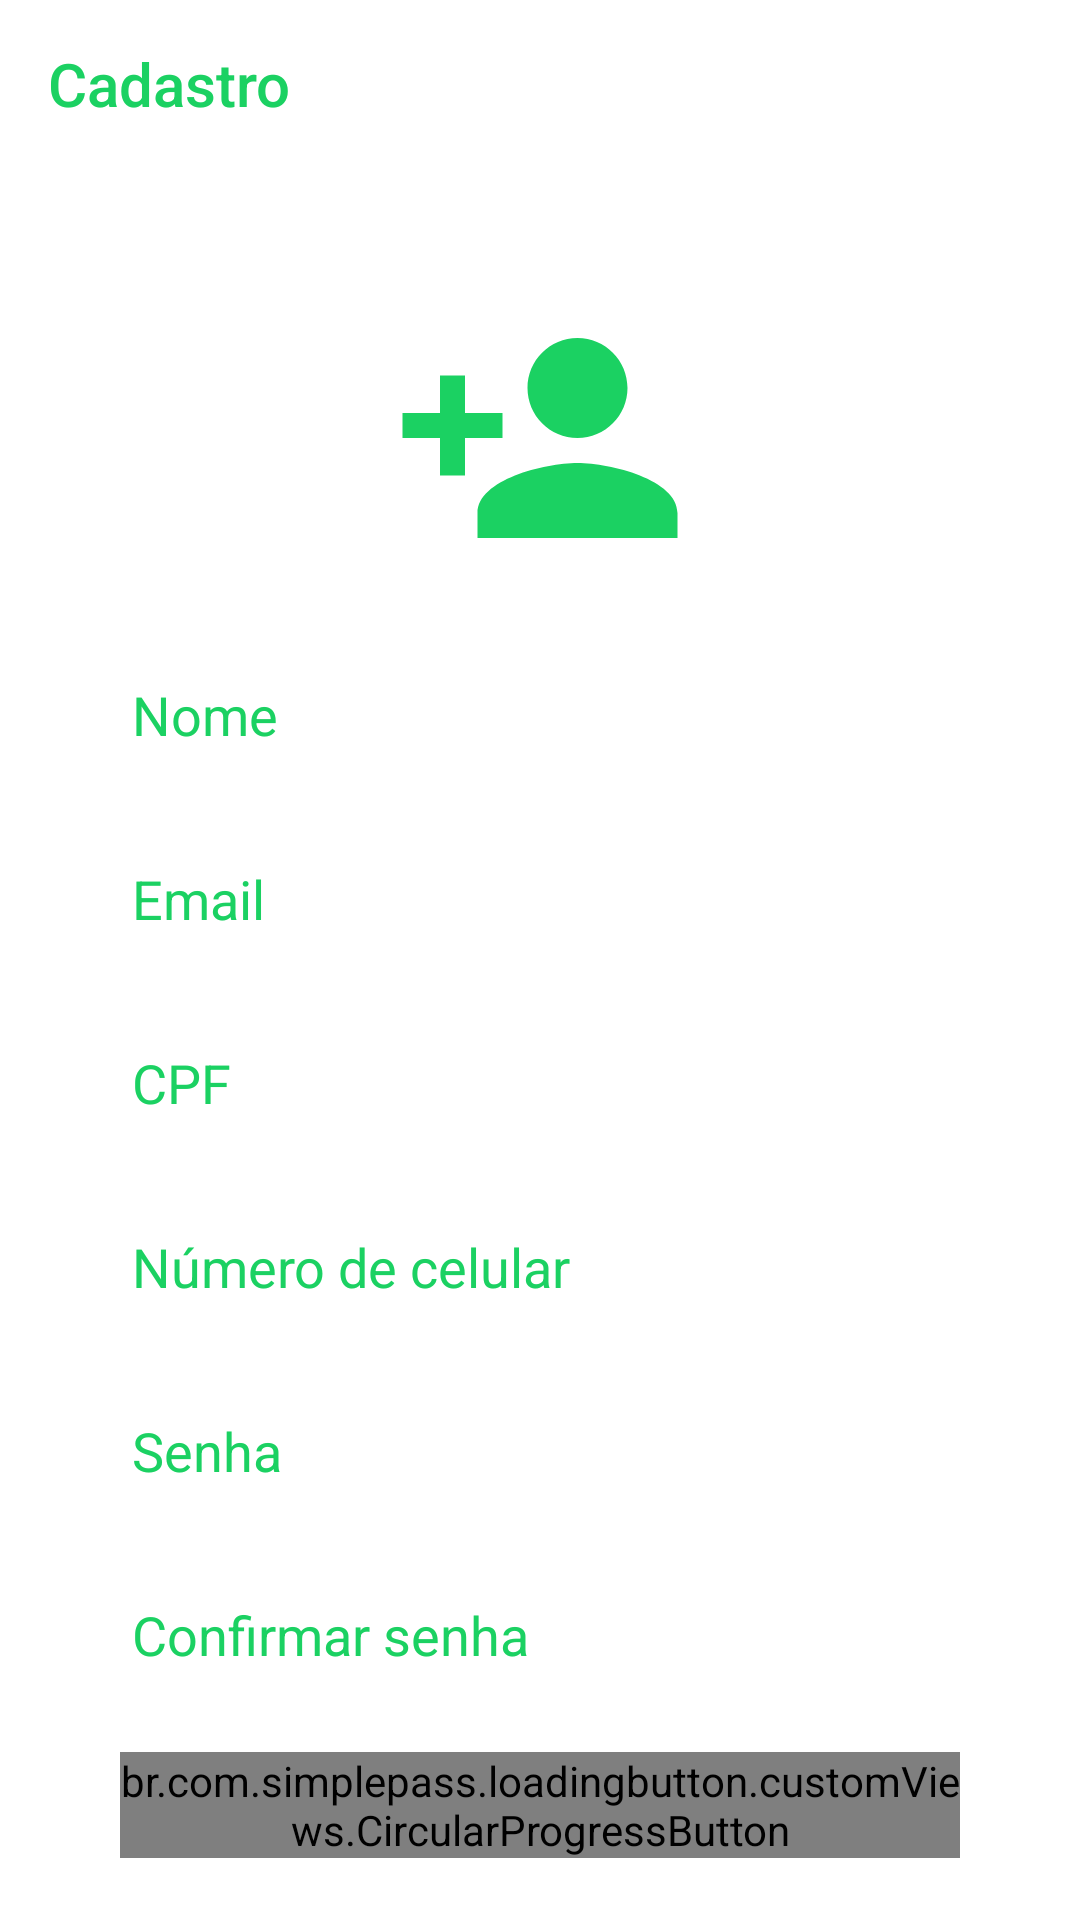

Where to tap for icons on this 1080px×1920px app screen, as (x,y):
person add: (540,438)
